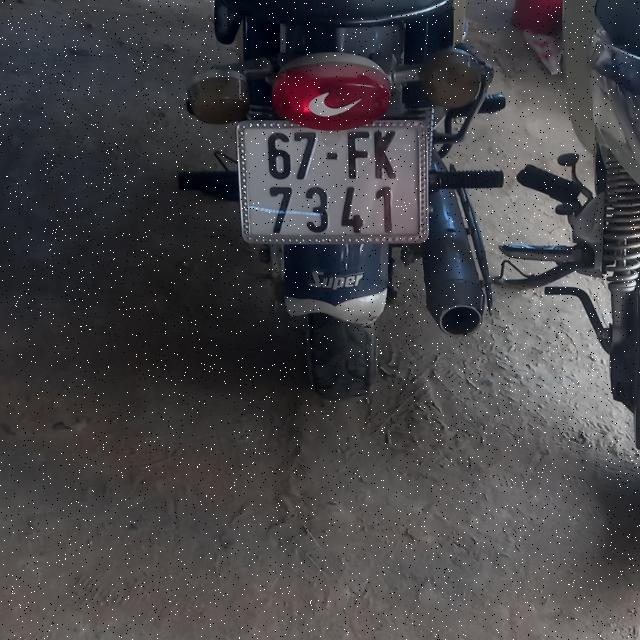1: (376, 186, 392, 234)
3: (305, 186, 330, 234)
4: (342, 186, 364, 237)
6: (267, 132, 292, 180)
7: (293, 131, 318, 179), (268, 185, 292, 234)
F: (347, 132, 370, 180)
K: (374, 130, 396, 180)
